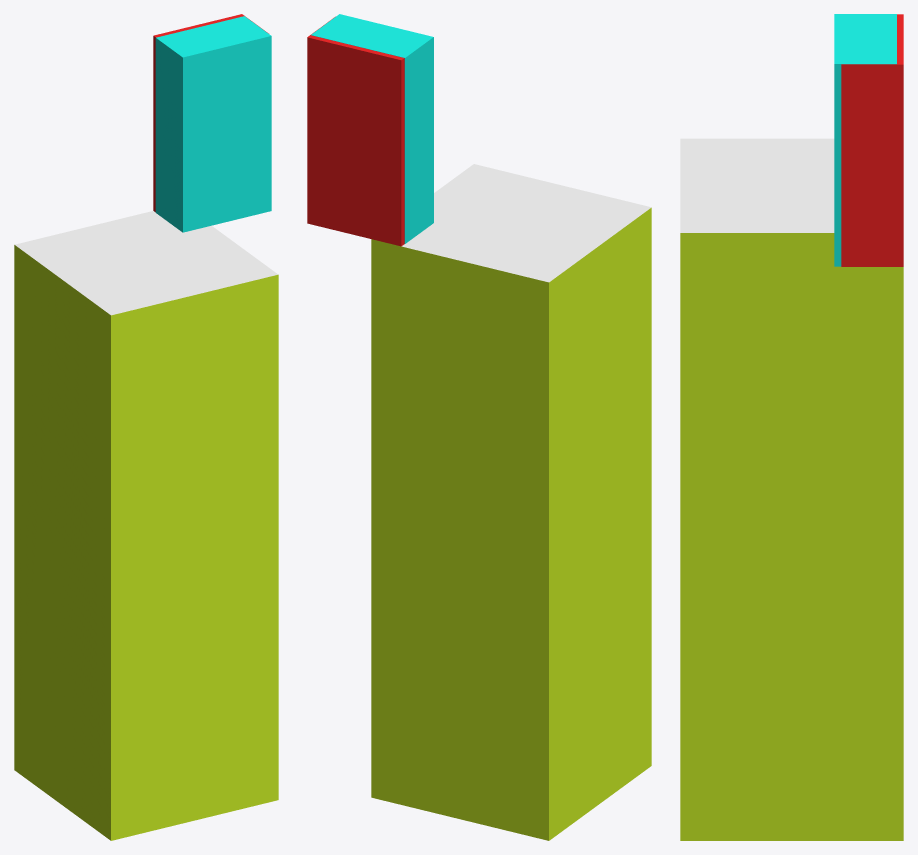
The picture shows the model from 3 angles, left to right: view 1: azimuth 30°, elevation 25°; view 2: azimuth 150°, elevation 25°; view 3: azimuth 270°, elevation 25°; orthographic projection. The views are drawn at different scales.
Parts seen in each view (by area): view 1: SketchUp (×2), group_1, group_0; view 2: SketchUp (×2), group_0, group_1; view 3: SketchUp (×2), group_0, group_1.
Boxes of the visible parts, x1,y1,x2,y2 form: SketchUp (×2): [14, 211, 278, 840]; group_1: [155, 16, 271, 232]; group_0: [153, 14, 268, 211]; SketchUp (×2): [371, 164, 651, 840]; group_0: [307, 16, 404, 246]; group_1: [311, 14, 433, 243]; SketchUp (×2): [680, 138, 903, 840]; group_0: [841, 14, 903, 266]; group_1: [834, 14, 896, 266].
Bounding box in the file's own units: 53.54 × 39.37 × 158.
